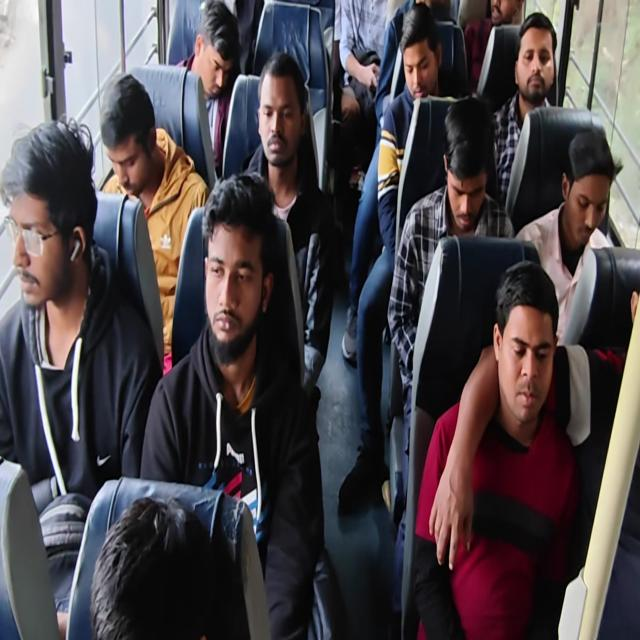person: (0, 123, 92, 315), (112, 515, 242, 640), (200, 186, 266, 357), (501, 276, 553, 422), (100, 82, 157, 198), (443, 112, 493, 232), (189, 6, 233, 109), (566, 139, 610, 240), (256, 60, 296, 155), (400, 22, 444, 106), (520, 25, 554, 96), (485, 0, 524, 31)
